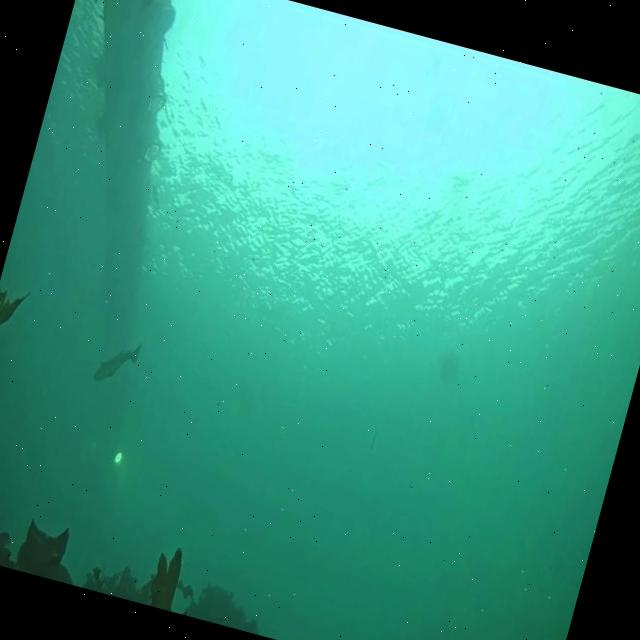fish: (90, 330, 143, 390), (146, 181, 164, 206), (366, 429, 379, 453)
